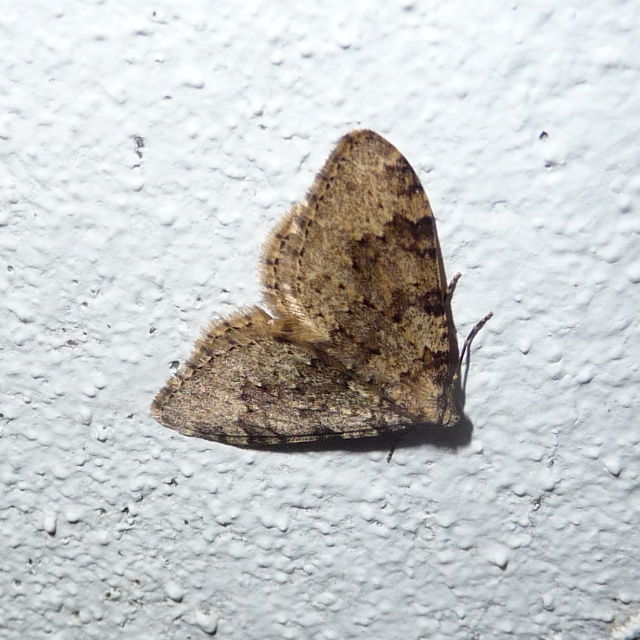Butterfly: (144, 126, 501, 461)
